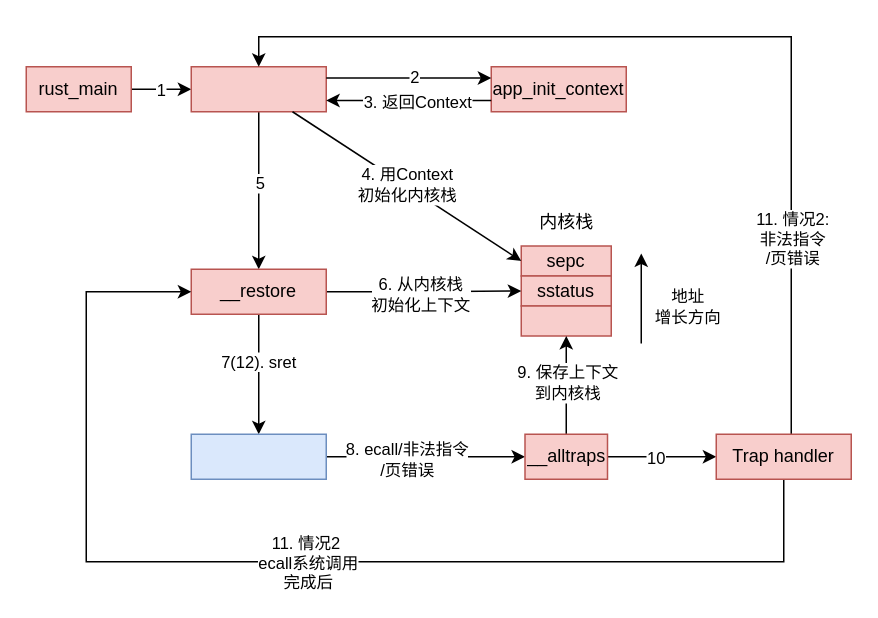
This 878x618 diagram has some shape labels left out. The shapes that lost their labels are listed below. From the top down, each one's centre as x and y in pixels, then its label:
[258,88]: run_next_app
[565,320]: regs[0..31]
[258,456]: APP
